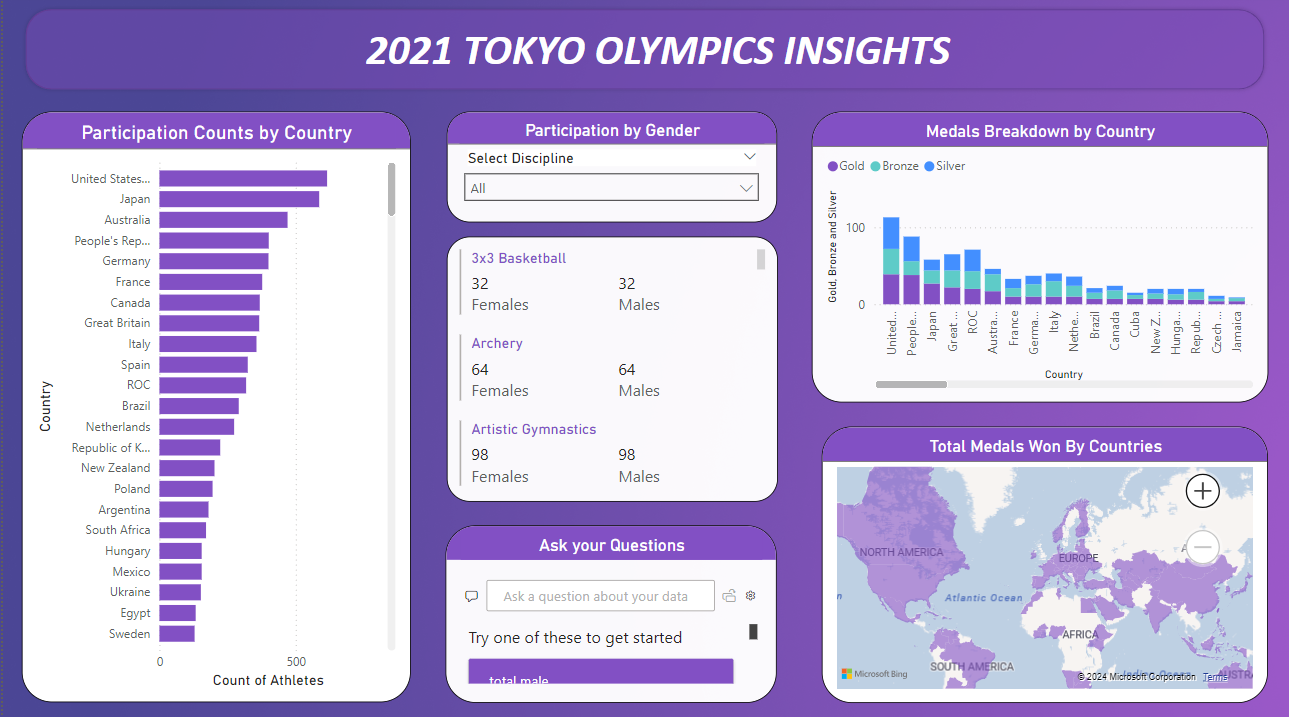

This screenshot's page, from the dashboard's own definition file:
{"tool":"powerbi","page":{"name":"Page 1","canvas":[1280,720],"ordinal":0},"visuals":[{"type":"clusteredBarChart","title":"Participation Counts by Country","fields":{"Category":["Athletes.Country"],"Y":["Count(Athletes)"]},"box":[18.7,116.9,386.9,588.4],"z":0},{"type":"filledMap","title":"Total Medals Won By Countries","fields":{"Category":["Medals.TeamCountry"]},"box":[814.8,430.4,444.1,274.9],"z":1000},{"type":"lineStackedColumnComboChart","title":"Medals Breakdown by Country","fields":{"Y":["Sum(Medals.Gold)","Sum(Medals.Bronze)","Sum(Medals.Silver)"],"Category":["Medals.TeamCountry"]},"box":[804.8,116.9,454,289.8],"z":2000},{"type":"multiRowCard","fields":{"Values":["EntriesGender.Discipline","Sum(EntriesGender.Female)","Sum(EntriesGender.Male)"]},"box":[441.6,241.3,329.6,263.7],"z":3000},{"type":"slicer","title":"Participation by Gender","fields":{"Values":["EntriesGender.Discipline"]},"box":[441.6,116.9,328.4,110.7],"z":4000},{"type":"shape","box":[19.2,11,1240.5,87.8],"z":5000},{"type":"textbox","box":[318.5,23.6,666.8,62.2],"z":6000},{"type":"qnaVisual","title":"Ask your Questions","box":[440.4,528.7,329.6,176.6],"z":6001}]}

Visuals, with their boxes in screenshot pixels (x1, y1, x2, y2), scaled from the page's 1280x720 canvas onto the 1289x717 screenshot:
"Participation Counts by Country" clusteredBarChart: {"x1": 19, "y1": 116, "x2": 408, "y2": 702}
"Total Medals Won By Countries" filledMap: {"x1": 821, "y1": 429, "x2": 1268, "y2": 702}
"Medals Breakdown by Country" lineStackedColumnComboChart: {"x1": 810, "y1": 116, "x2": 1268, "y2": 405}
multiRowCard - EntriesGender.Discipline x Sum(EntriesGender.Female): {"x1": 445, "y1": 240, "x2": 777, "y2": 503}
"Participation by Gender" slicer: {"x1": 445, "y1": 116, "x2": 775, "y2": 227}
shape: {"x1": 19, "y1": 11, "x2": 1269, "y2": 98}
textbox: {"x1": 321, "y1": 24, "x2": 992, "y2": 85}
"Ask your Questions" qnaVisual: {"x1": 443, "y1": 526, "x2": 775, "y2": 702}
